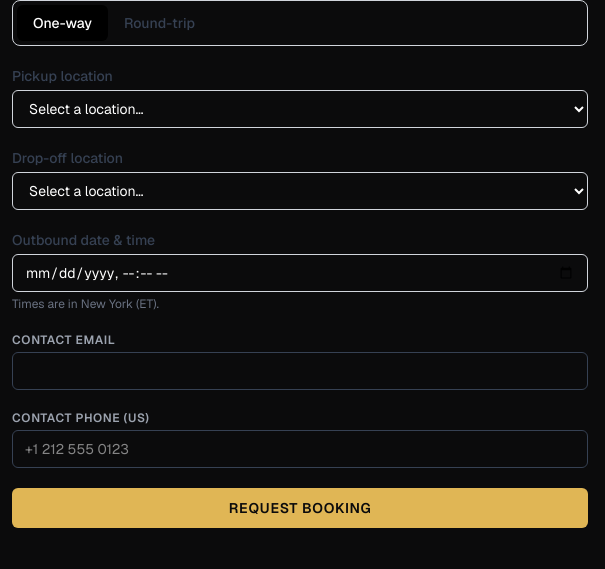
Test: BookingForm › shows an inline error for an invalid US phone
This screenshot has width=605, height=569.
Select "JFK — JFK" in the dropdown with test id "origin-select" at point(300, 109), box [12, 90, 588, 128]
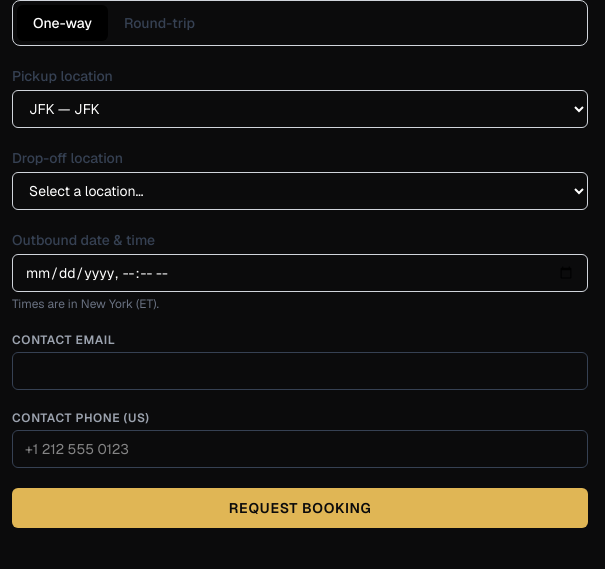
Select "Manhattan" in the dropdown with test id "destination-select" at point(300, 191), box [12, 172, 588, 210]
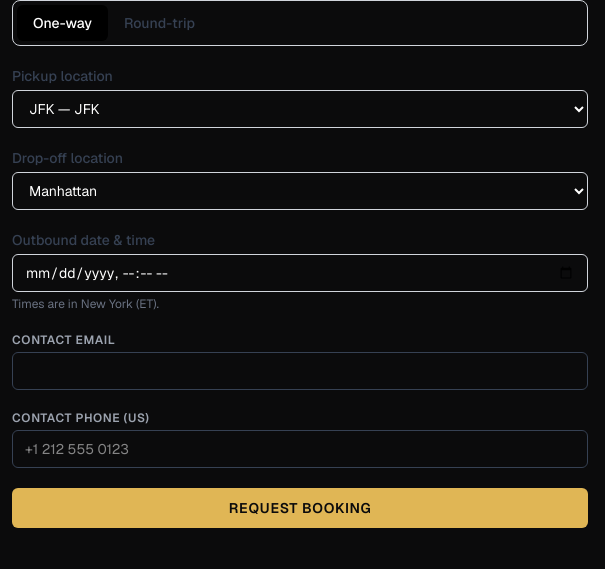
Type "2026-01-15T08:00" into the field with test id "outbound-datetime".
click(300, 273); type("2026-01-15T08:00")  # box [12, 254, 588, 292]
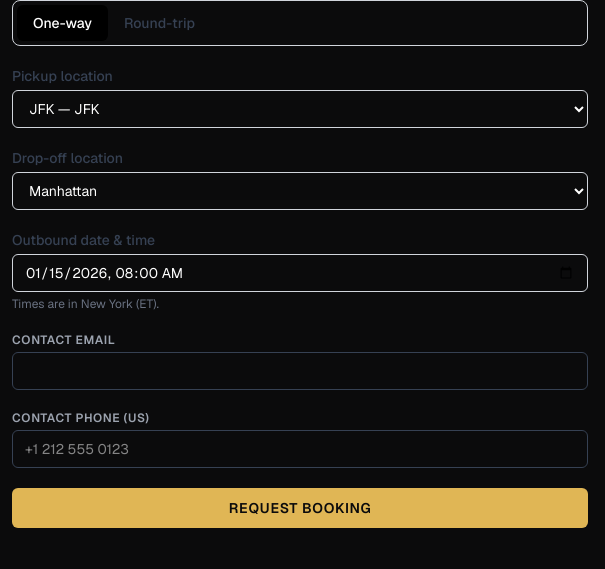
Type "rider@example.com" into the field with test id "contact-email".
click(300, 371); type("rider@example.com")  # box [12, 352, 588, 390]
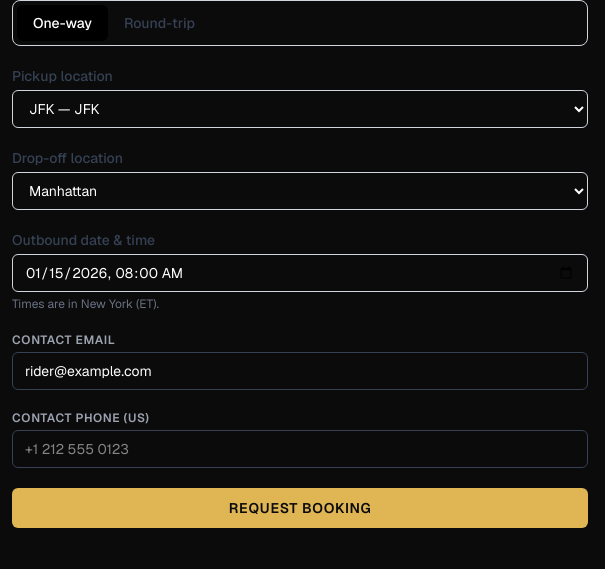
Type "12345" into the field with test id "contact-phone".
click(300, 449); type("12345")  # box [12, 430, 588, 468]
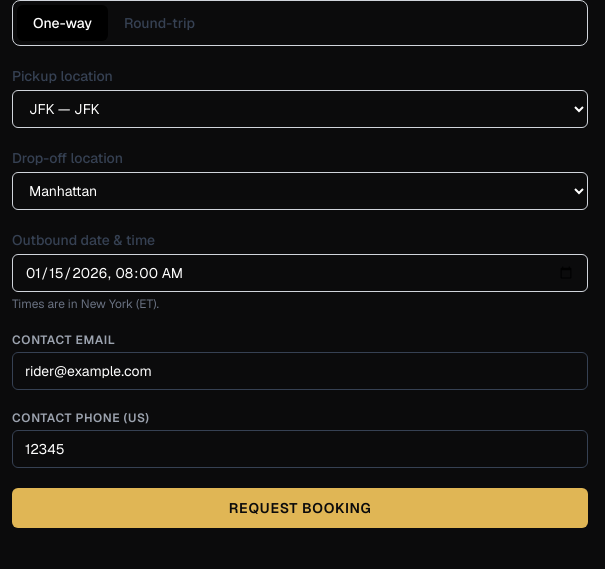
Click the button with test id "booking-submit".
click(300, 508)  # box [12, 488, 588, 528]
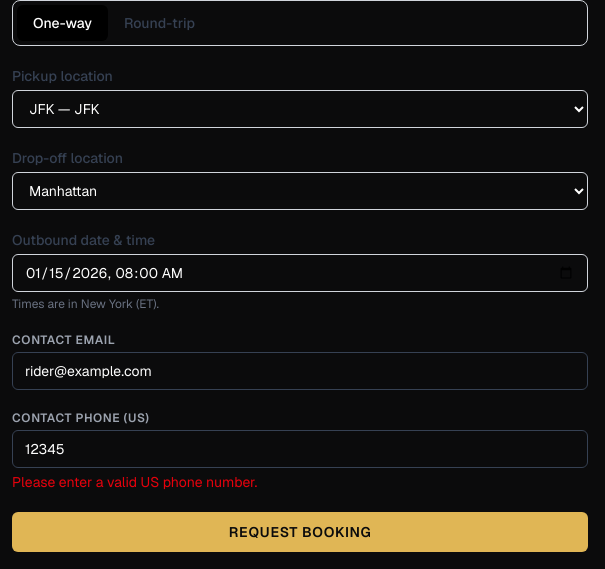
Now the message "Please enter a valid US phone number." is shown, box [12, 473, 257, 491]
